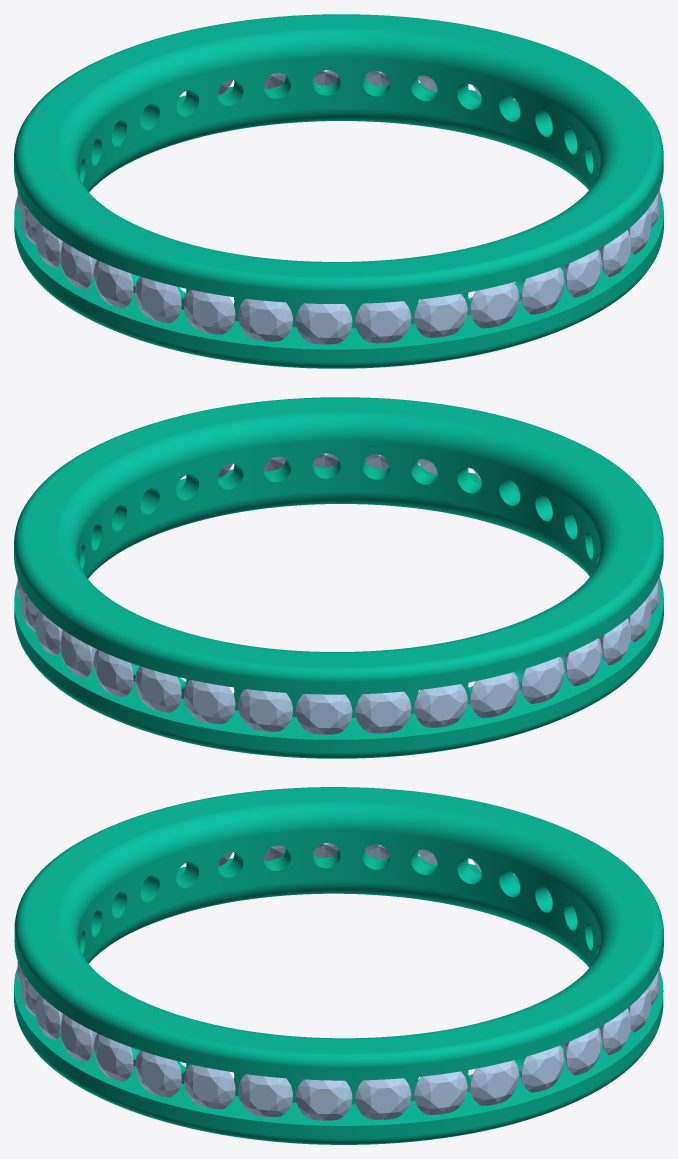
The picture shows the model from 3 angles, top to bottom: view 1: azimuth 30°, elevation 25°; view 2: azimuth 150°, elevation 25°; view 3: azimuth 270°, elevation 25°; orthographic projection.
Visible parts, largest first — view 1: VR851(base).3dm, Diamond_Round (×14); view 2: VR851(base).3dm, Diamond_Round (×14); view 3: VR851(base).3dm, Diamond_Round (×14).
Part boxes in pixels (x1,y1,x2,y2): VR851(base).3dm: (14,14,663,368); Diamond_Round (×14): (35,209,651,344); VR851(base).3dm: (14,397,663,758); Diamond_Round (×14): (35,596,651,734); VR851(base).3dm: (14,787,663,1144); Diamond_Round (×14): (35,987,650,1120).
Size of the model in its own units: 2.81 by 0.4537 by 2.81.
